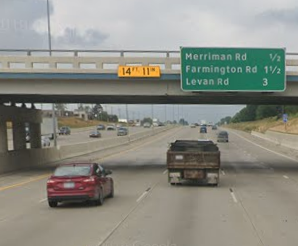1: (140, 65, 147, 77), (120, 66, 127, 76), (145, 66, 151, 77)
4: (124, 66, 133, 76)
overheadsign: (116, 63, 162, 79)
